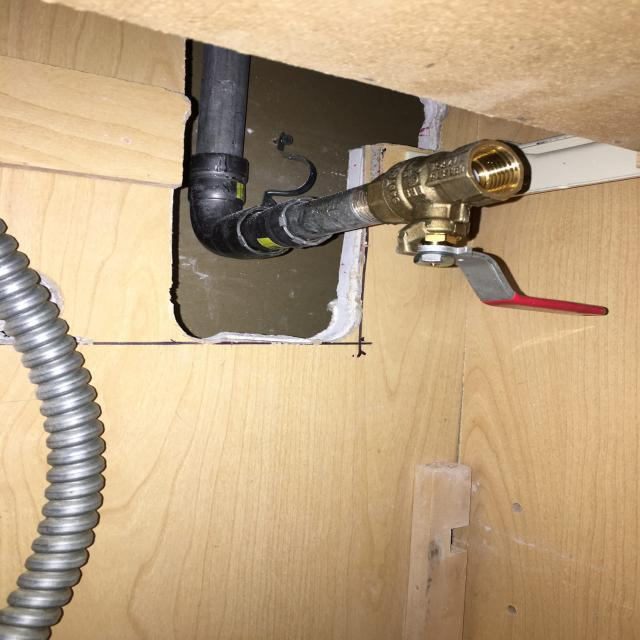Lever Handle Valve Threaded: (354, 143, 610, 317)
